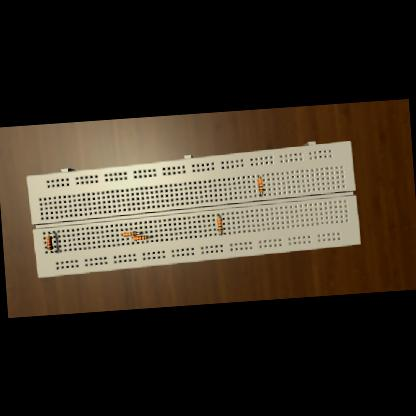breadboard: (25, 138, 361, 278)
resistor: (46, 236, 52, 250), (256, 178, 262, 192), (132, 235, 146, 240), (122, 231, 136, 236), (216, 218, 221, 232)
wire: (49, 249, 56, 252), (48, 232, 53, 236), (146, 235, 152, 237), (136, 232, 141, 234), (259, 192, 261, 195), (257, 176, 259, 178), (217, 214, 218, 217), (130, 238, 132, 239), (120, 233, 121, 235)
